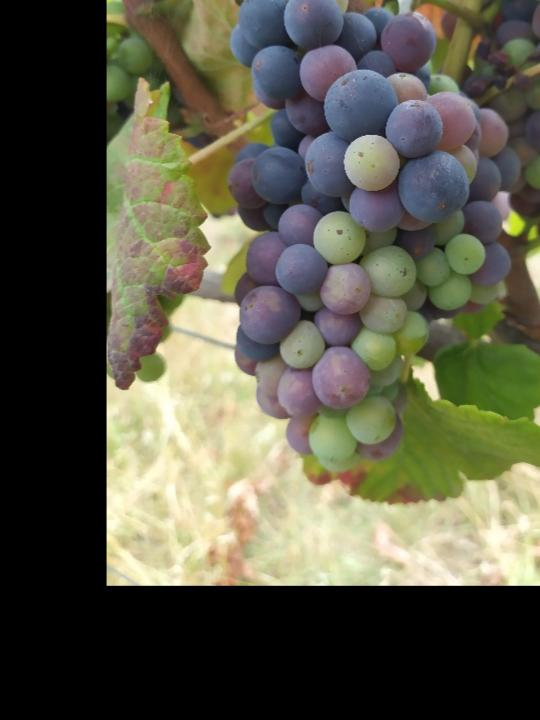grape: (227, 0, 516, 476)
